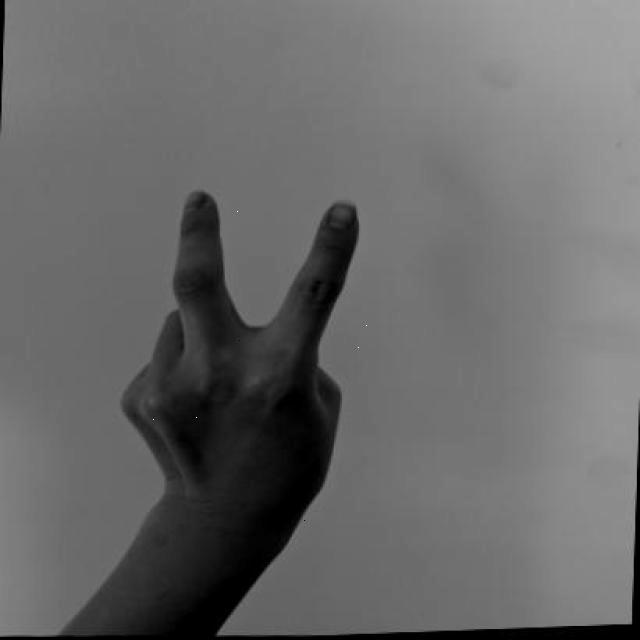V: (109, 180, 367, 530)
